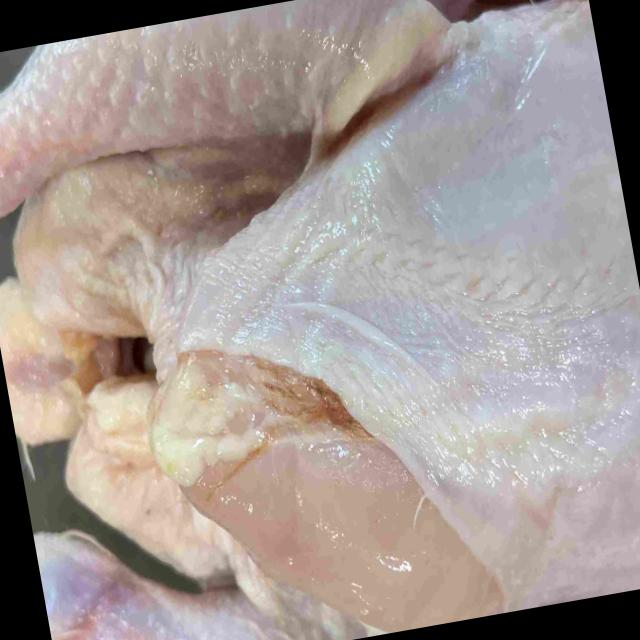breast: (151, 0, 640, 630)
leg: (0, 0, 452, 218), (33, 531, 364, 640)
